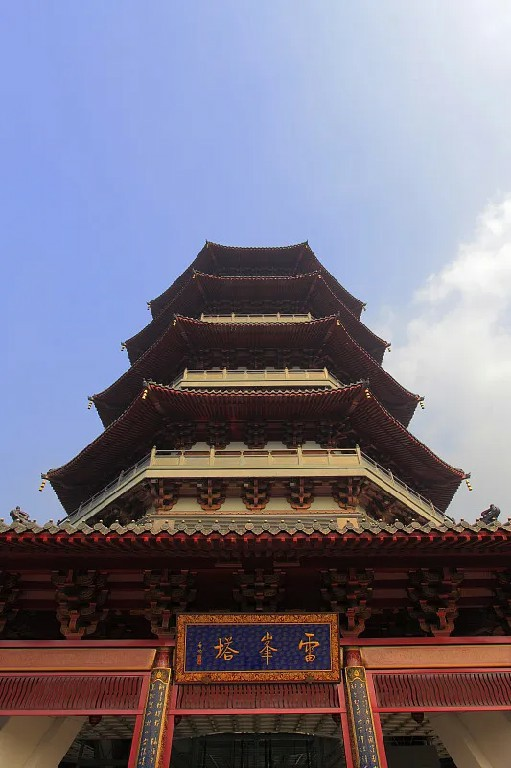Leifeng: (41, 235, 473, 530)
